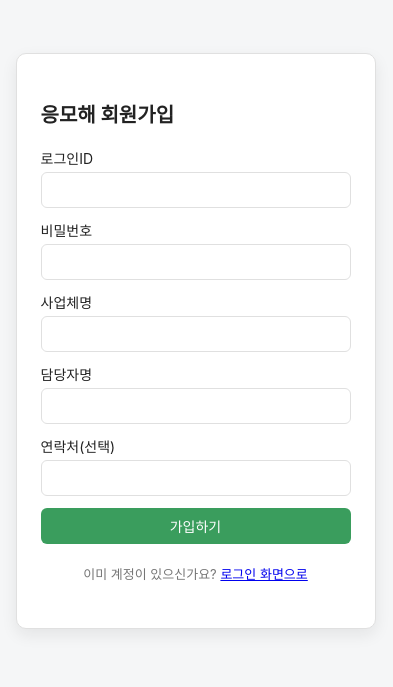
SignUp › 409 응답이면 중복 아이디 에러 메시지가 alert로 노출되고 화면 전환은 없다
The image size is (393, 687).
In the field labelled "로그인ID": (196, 190) [40,172,350,208], type "gdhong"
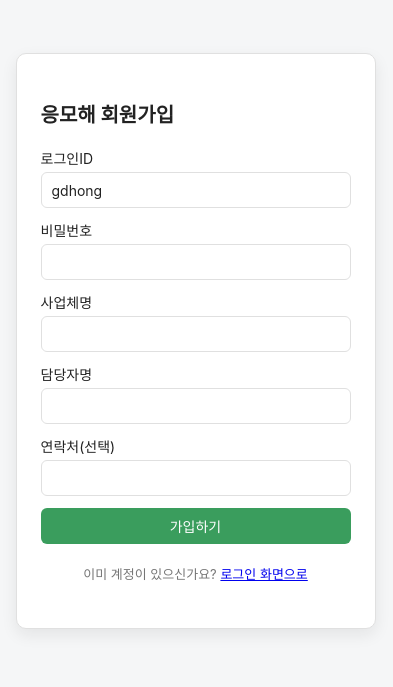
In the password field labelled "비밀번호": (196, 262) [40,244,350,280], type "pw1234"
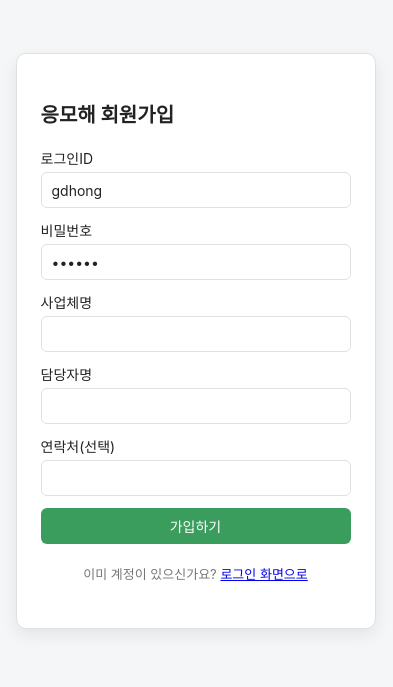
In the field labelled "사업체명": (196, 334) [40,316,350,352], type "CJ프레시웨이"
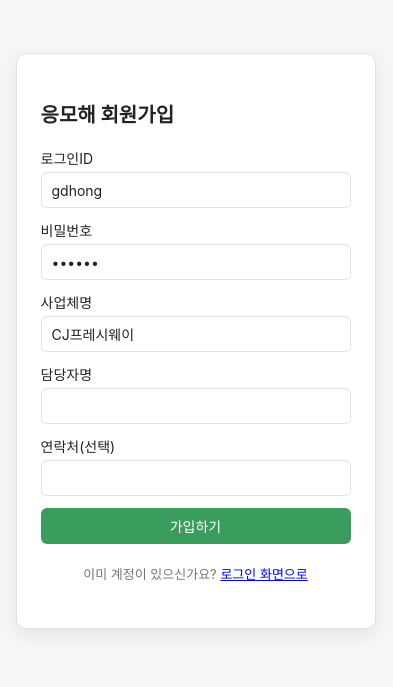
In the field labelled "담당자명": (196, 406) [40,388,350,424], type "홍길동"
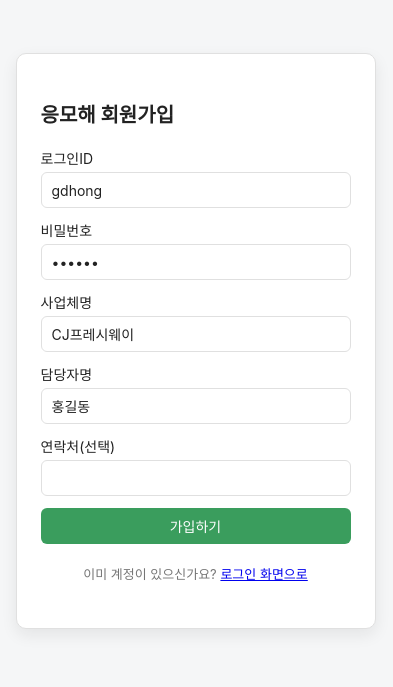
Click the button "가입하기": (196, 526) [40,508,350,544]
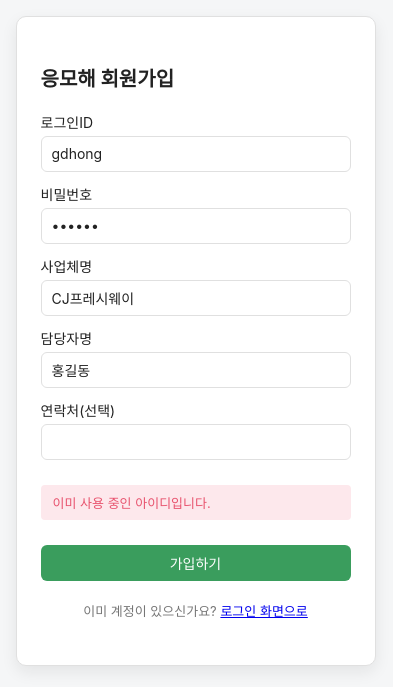
Now the message reads "이미 사용 중인 아이디입니다.", box [52,495,211,511]
